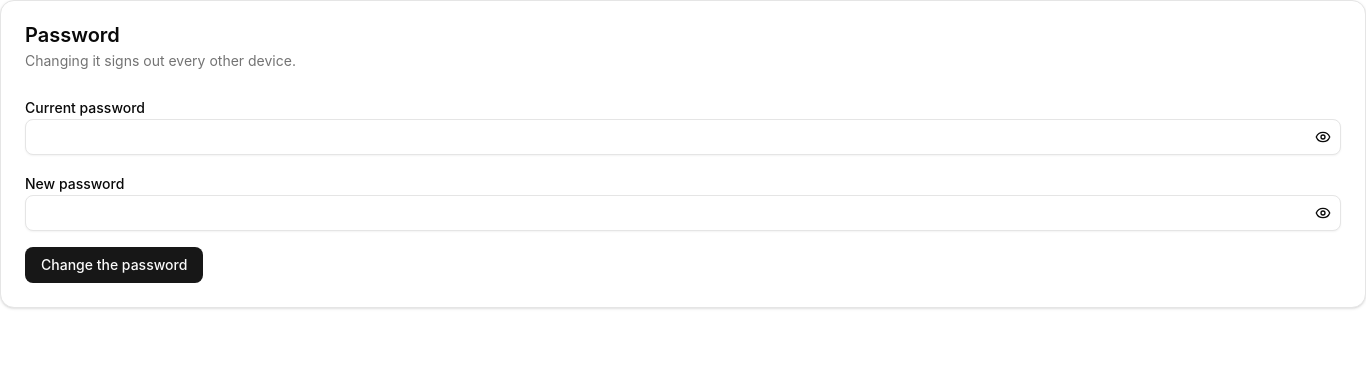
Test case: shows any other error on the form and keeps the fields
Type "old-password" into the password field labelled "Current password". click: point(683, 137)
box: left=25, top=119, right=1341, bottom=155
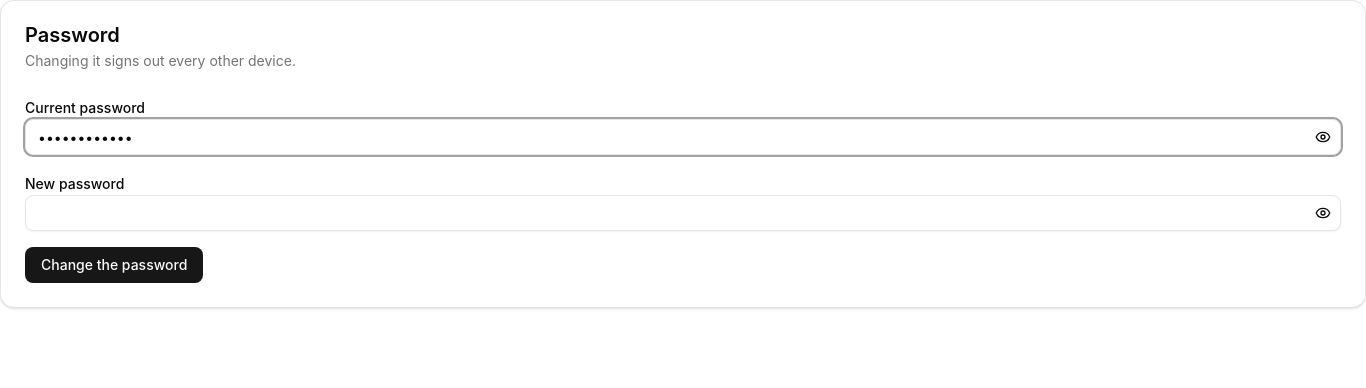
Type "new-password-1" into the password field labelled "New password". click: point(683, 213)
box: left=25, top=195, right=1341, bottom=231
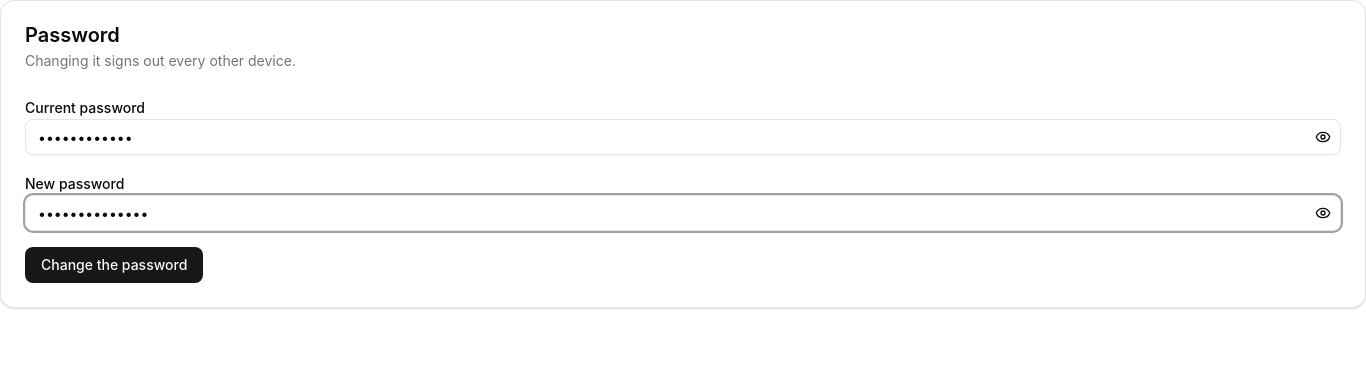
Click the button "Change the password". click: point(114, 265)
box: left=25, top=247, right=203, bottom=283
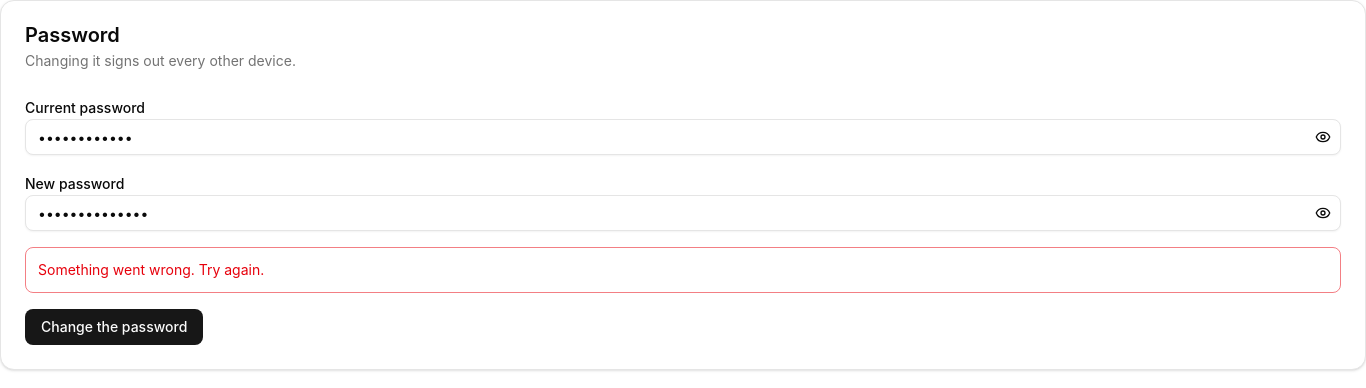
Expected: the text "Something went wrong. Try again." is shown, left=25, top=247, right=1341, bottom=293
